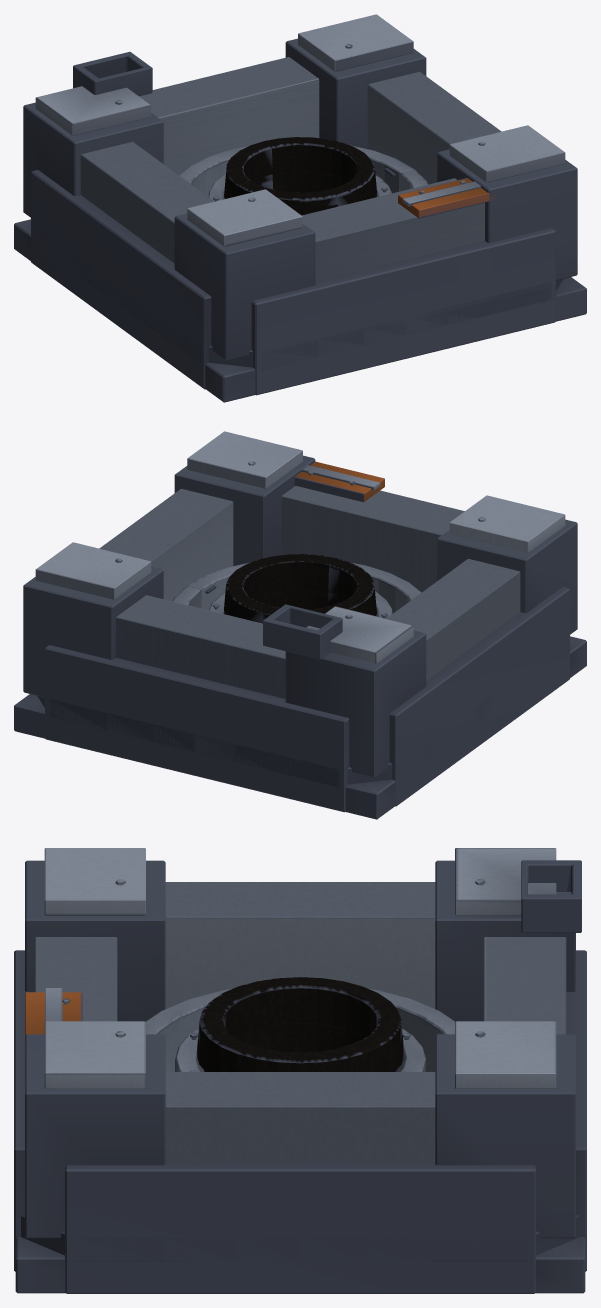
The model's file is massline_core_lod0.glb.
3 renders of one model, top to bottom at view 1: azimuth 30°, elevation 25°; view 2: azimuth 150°, elevation 25°; view 3: azimuth 270°, elevation 25°, orthographic. The views are drawn at different scales.
Visible parts, largest first — view 1: LOD0_massline_core, LOD0_massline_core_lamp; view 2: LOD0_massline_core, LOD0_massline_core_lamp; view 3: LOD0_massline_core, LOD0_massline_core_lamp.
Boxes of the visible parts, bbox=[...] form: LOD0_massline_core: bbox=[14, 14, 586, 402]; LOD0_massline_core_lamp: bbox=[73, 51, 152, 96]; LOD0_massline_core: bbox=[14, 431, 586, 819]; LOD0_massline_core_lamp: bbox=[263, 604, 342, 659]; LOD0_massline_core: bbox=[14, 848, 586, 1293]; LOD0_massline_core_lamp: bbox=[521, 860, 581, 932].
Size of the model in its own units: 2.08 by 0.928 by 2.08.
1 material, 1 textured.
